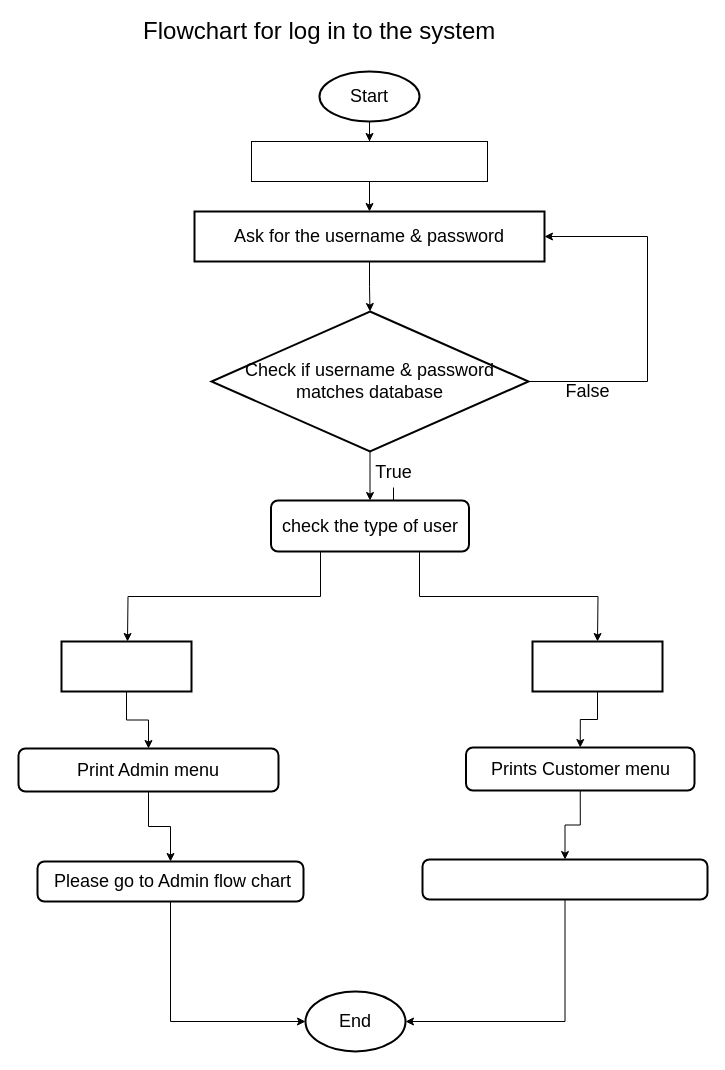
Some shapes in this 725 by 1070 pixel diagram are drawn without their labels. The centre of each missing label's shape, as x and y in pixels:
If Admin: the point at 126,666
If Customer: the point at 597,666
Please go to Customer flow chart: the point at 564,879
print welcome message: the point at 369,161
